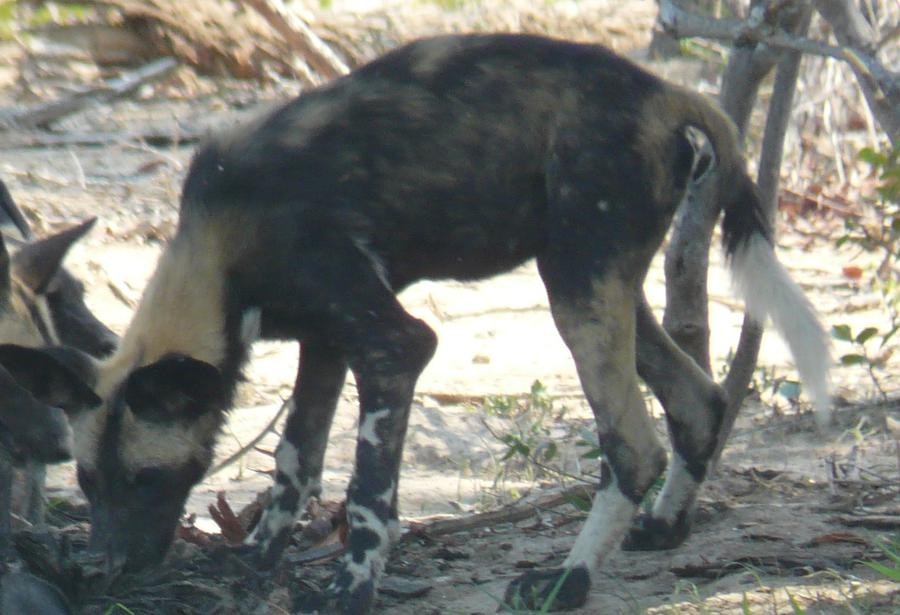wilddog: (1, 1, 900, 615)
